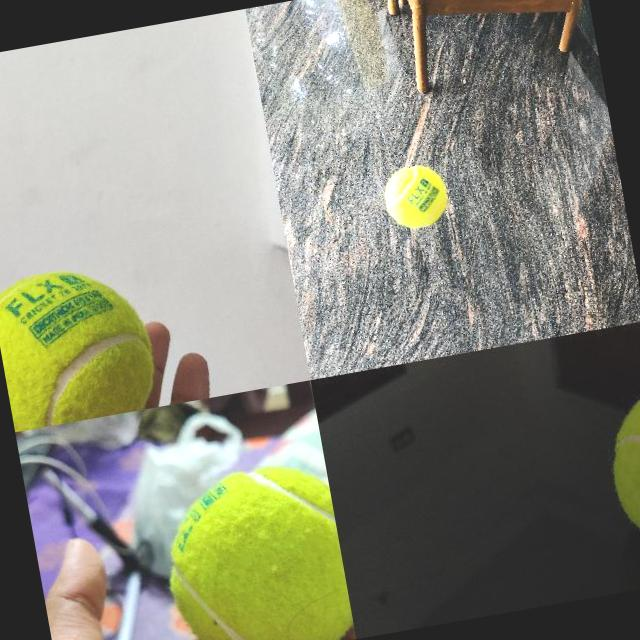Tennis Ball: (147, 452, 354, 640), (0, 256, 162, 431), (597, 377, 640, 569), (380, 160, 451, 232)
